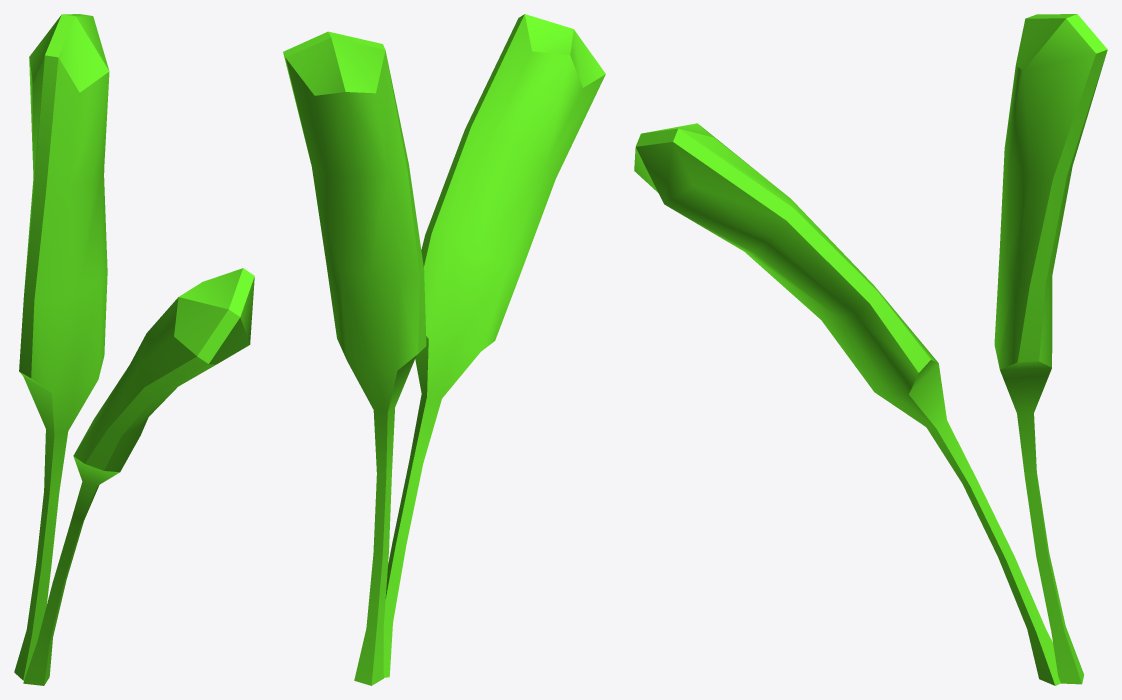
The model's file is SM_Flower_6.FBX.
3 renders of one model, left to right at view 1: azimuth 30°, elevation 25°; view 2: azimuth 150°, elevation 25°; view 3: azimuth 270°, elevation 25°, orthographic. The views are drawn at different scales.
Visible parts, largest first — view 1: 6; view 2: 6; view 3: 6.
Boxes of the visible parts, x1,y1,x2,y2 form: 6: [14, 14, 254, 685]; 6: [283, 14, 605, 685]; 6: [634, 14, 1107, 685].
Bounding box in the file's own units: 1.2 × 6.5 × 4.08.
